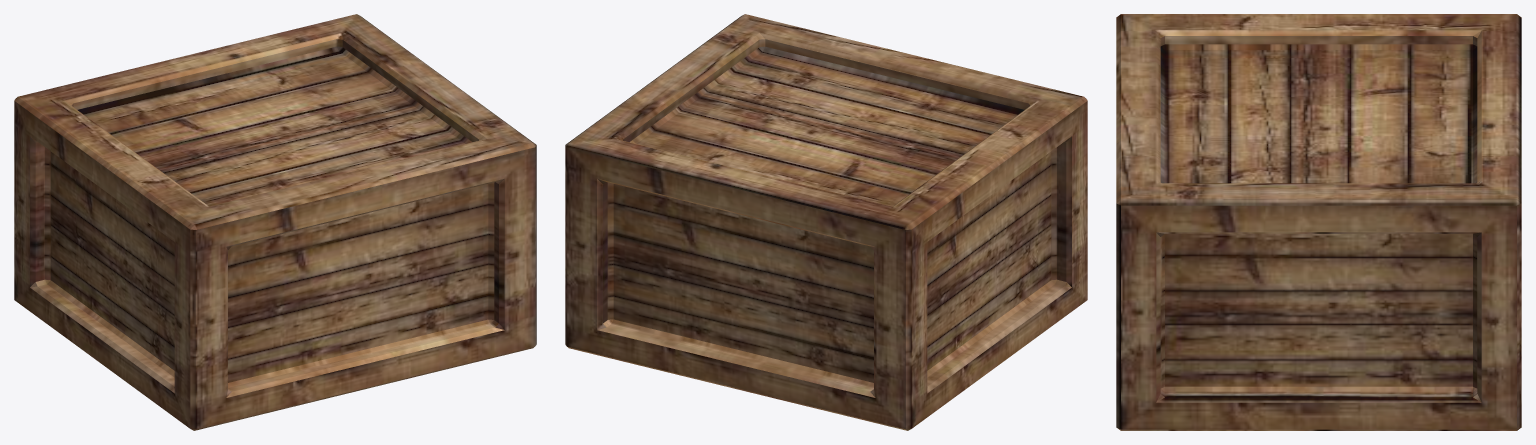
File: wooden-chest.glb
The picture shows the model from 3 angles, left to right: view 1: azimuth 30°, elevation 25°; view 2: azimuth 150°, elevation 25°; view 3: azimuth 270°, elevation 25°; orthographic projection. The views are drawn at different scales.
Visible parts, largest first — view 1: body; view 2: body; view 3: body.
Boxes of the visible parts, <box> form: body: <box>14,14,536,430</box>; body: <box>565,14,1087,430</box>; body: <box>1116,14,1521,430</box>.
Size of the model in its own units: 1 by 0.5663 by 0.9.
1 material, 1 textured.
